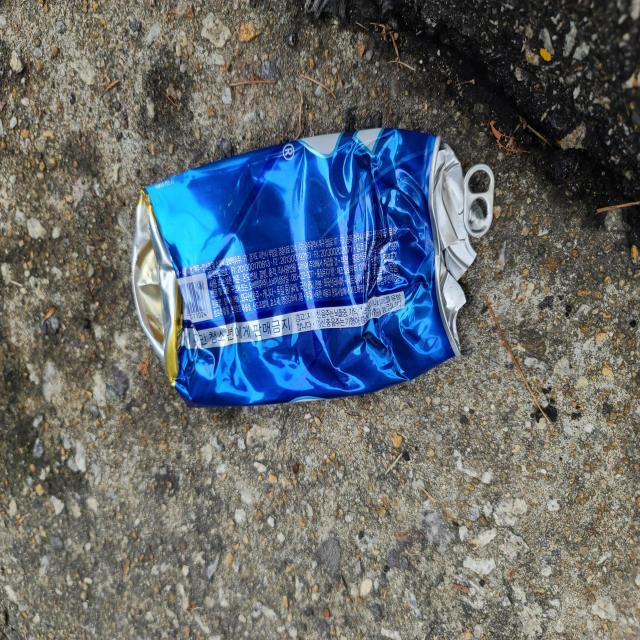can: (131, 128, 495, 406)
